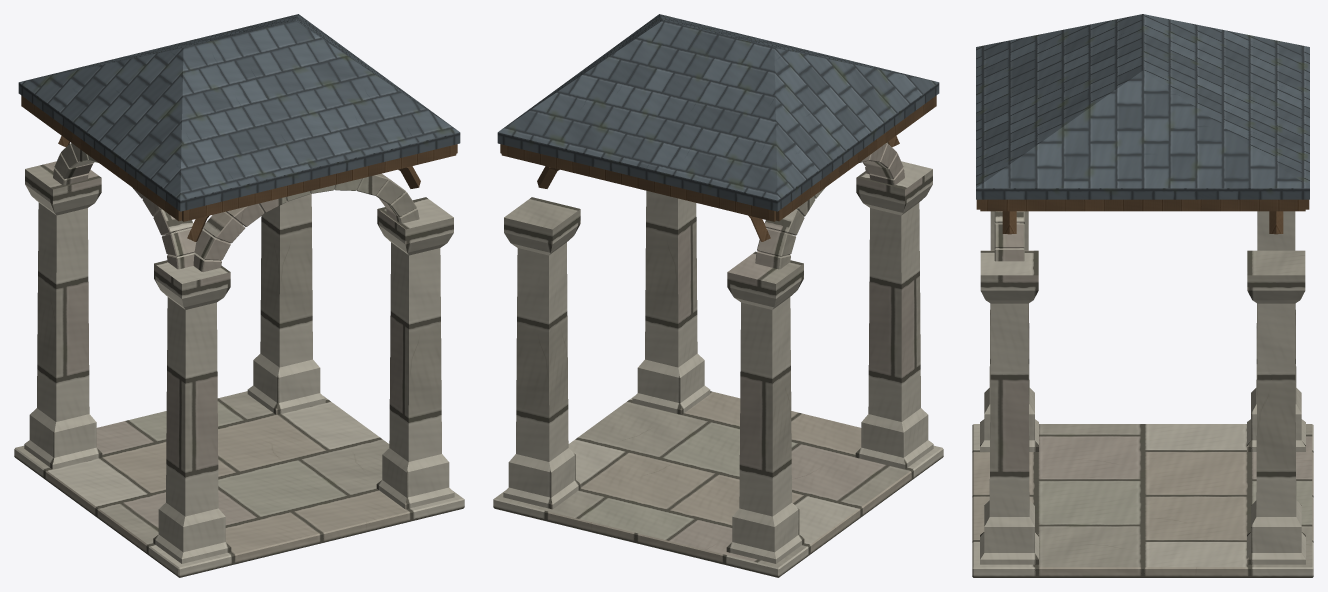
The model's file is Furn_Arcade2_Corner.fbx.
3 renders of one model, left to right at view 1: azimuth 30°, elevation 25°; view 2: azimuth 150°, elevation 25°; view 3: azimuth 270°, elevation 25°, orthographic. The views are drawn at different scales.
Visible parts, largest first — view 1: Furn_Arcade2_Corner_Mesh; view 2: Furn_Arcade2_Corner_Mesh; view 3: Furn_Arcade2_Corner_Mesh.
Boxes of the visible parts, box(x1,y1,x2,y2) form: Furn_Arcade2_Corner_Mesh: box(14, 14, 464, 577); Furn_Arcade2_Corner_Mesh: box(493, 14, 943, 577); Furn_Arcade2_Corner_Mesh: box(972, 14, 1313, 577).
Size of the model in its own units: 3.2 by 4.8 by 3.2.
Materials: 3 (3 with a texture image).
